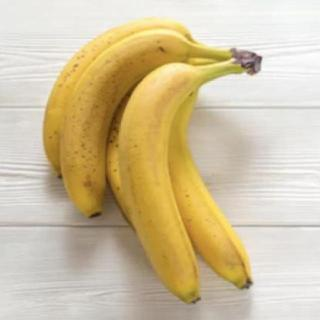banana: (58, 29, 192, 222), (42, 18, 192, 182), (147, 75, 257, 292), (116, 62, 208, 308)
